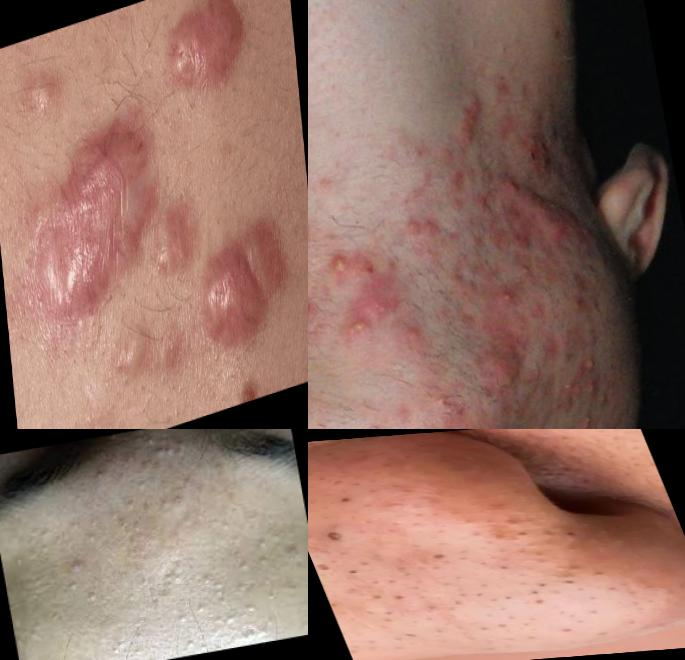blackhead: (511, 568, 634, 604), (483, 513, 604, 545), (403, 544, 469, 569), (312, 558, 361, 588), (359, 585, 418, 609), (162, 482, 193, 519), (321, 523, 358, 550), (328, 493, 374, 514), (109, 514, 140, 540)
cystic: (474, 327, 536, 399), (18, 52, 65, 145)
folliculitis: (388, 197, 467, 254), (557, 337, 628, 390), (309, 232, 371, 292), (545, 394, 631, 430), (335, 293, 382, 355), (479, 278, 541, 320), (503, 246, 556, 285)
keloid: (1, 104, 181, 353), (199, 219, 299, 373), (155, 1, 254, 115), (501, 161, 604, 259), (93, 305, 173, 414), (169, 191, 196, 275)
whitehead: (140, 430, 203, 474), (17, 515, 67, 570), (246, 530, 280, 573), (77, 509, 105, 551), (208, 578, 230, 610), (170, 608, 195, 634), (82, 584, 104, 613), (212, 610, 241, 632), (62, 572, 80, 602), (234, 562, 253, 580), (244, 603, 262, 620), (193, 604, 209, 620)
